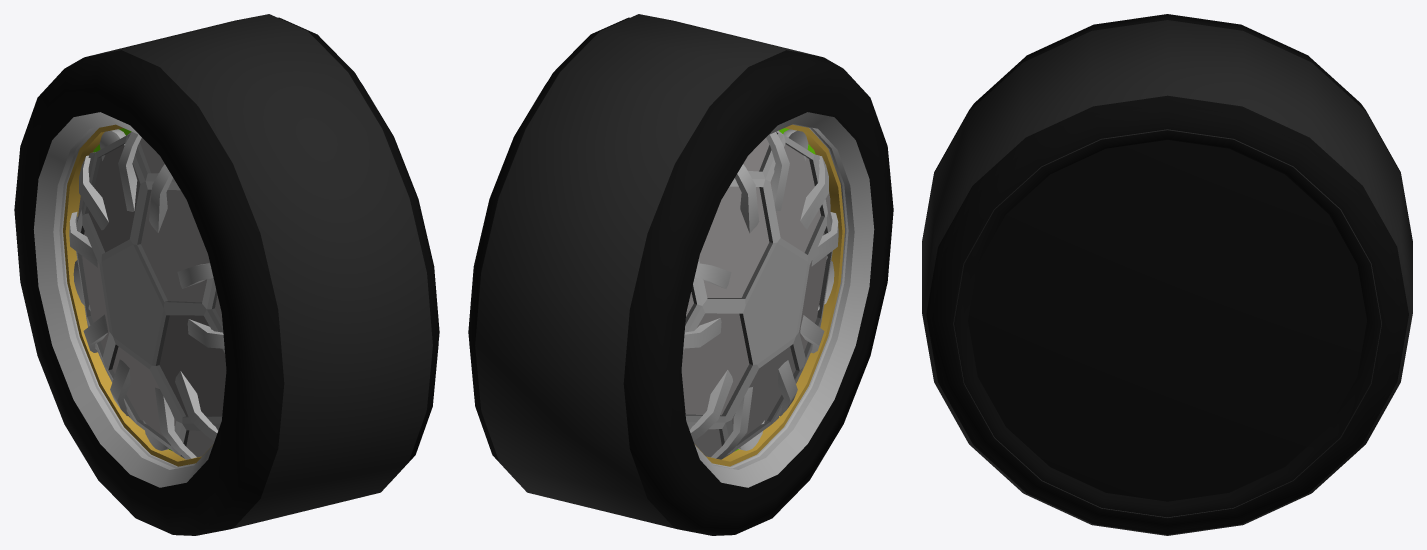
Rendered from obj_wheelsPack001.fbx.
3 views of the same model, side by side, from view 1: azimuth 30°, elevation 25°; view 2: azimuth 150°, elevation 25°; view 3: azimuth 270°, elevation 25° (orthographic).
Visible parts, largest first — view 1: obj_wheels_Ice Charger, obj_wheels_yellowFlower, obj_wheels_cristiano; view 2: obj_wheels_Ice Charger, obj_wheels_yellowFlower, obj_wheels_cristiano; view 3: obj_wheels_yellowFlower, obj_wheels_cristiano, obj_wheels_Ice Charger.
Part boxes in pixels (x1,y1,x2,y2): obj_wheels_Ice Charger: [59, 14, 432, 528]; obj_wheels_yellowFlower: [14, 17, 438, 535]; obj_wheels_cristiano: [76, 34, 439, 459]; obj_wheels_Ice Charger: [475, 14, 848, 528]; obj_wheels_yellowFlower: [469, 17, 893, 535]; obj_wheels_cristiano: [468, 34, 832, 458]; obj_wheels_yellowFlower: [922, 14, 1412, 534]; obj_wheels_cristiano: [926, 95, 1408, 531]; obj_wheels_Ice Charger: [922, 20, 1412, 535].
Bounding box in the file's own units: 0.3044 × 0.6582 × 0.6582.
